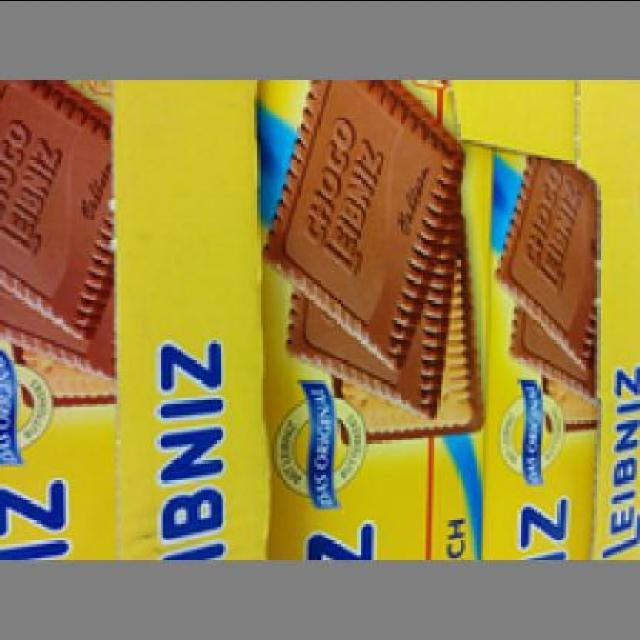Merendine: (254, 83, 477, 554), (1, 80, 116, 560), (474, 167, 597, 564)
